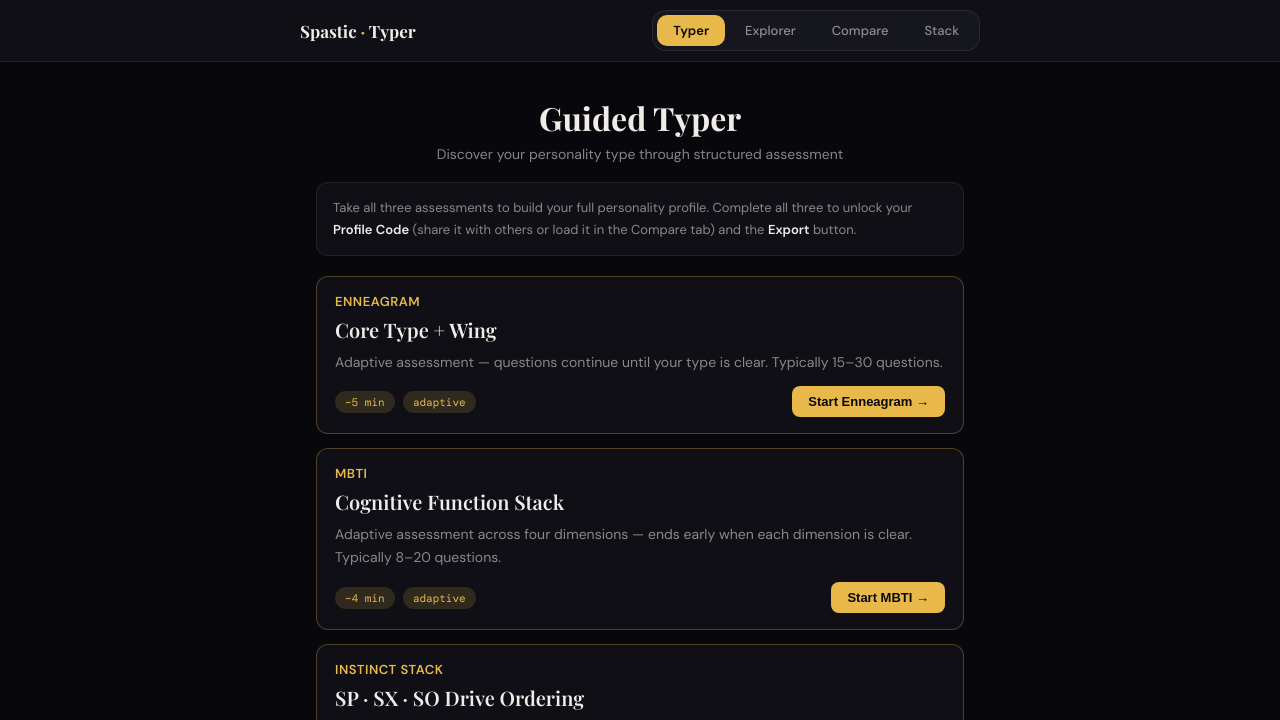
Navigation — tabs › switches to Stack view and marks the tab current
Click the button "Stack" at point(942, 30), box [908,15,975,46]
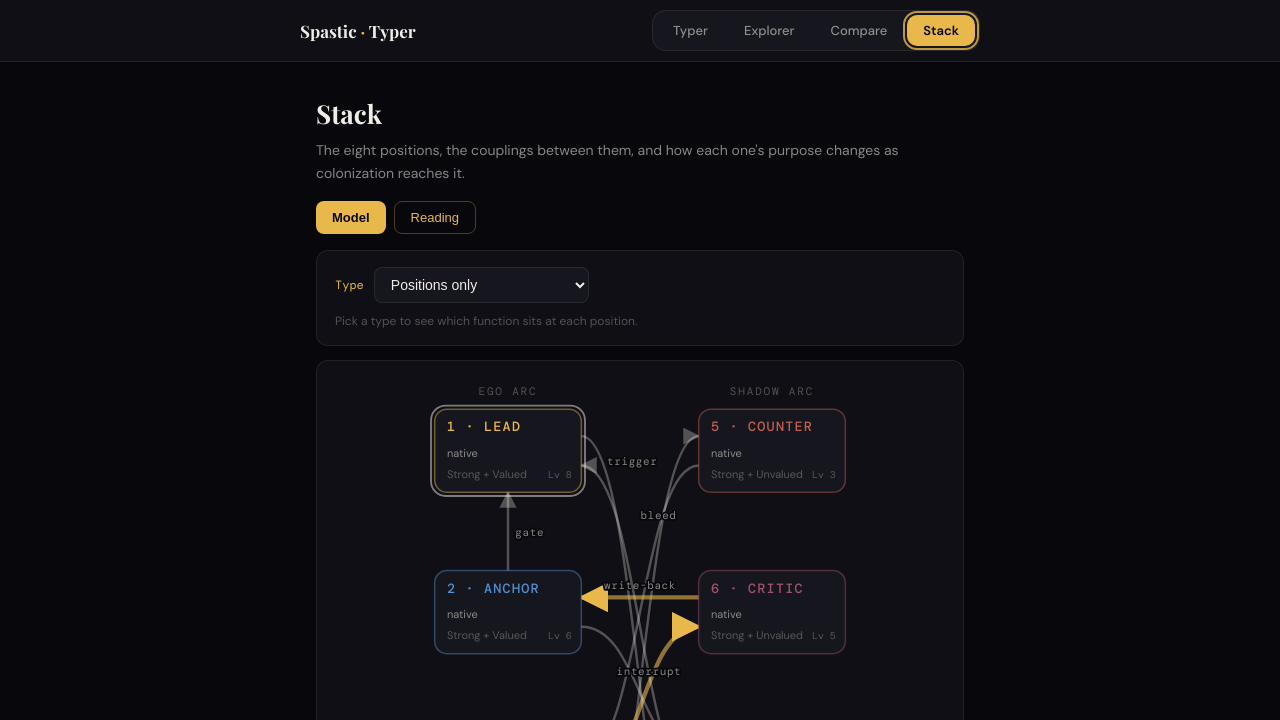
Check: the heading "Stack" is shown, box [316,96,382,131]
